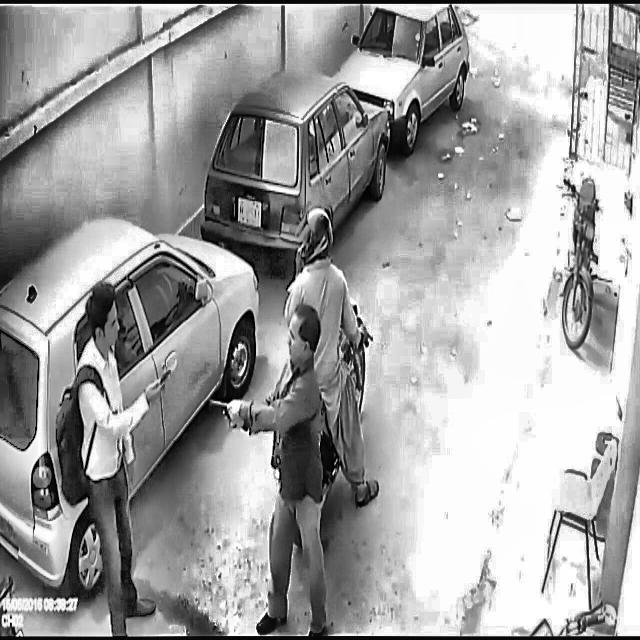pistol: (207, 374, 261, 455)
robbery: (58, 190, 384, 634)
